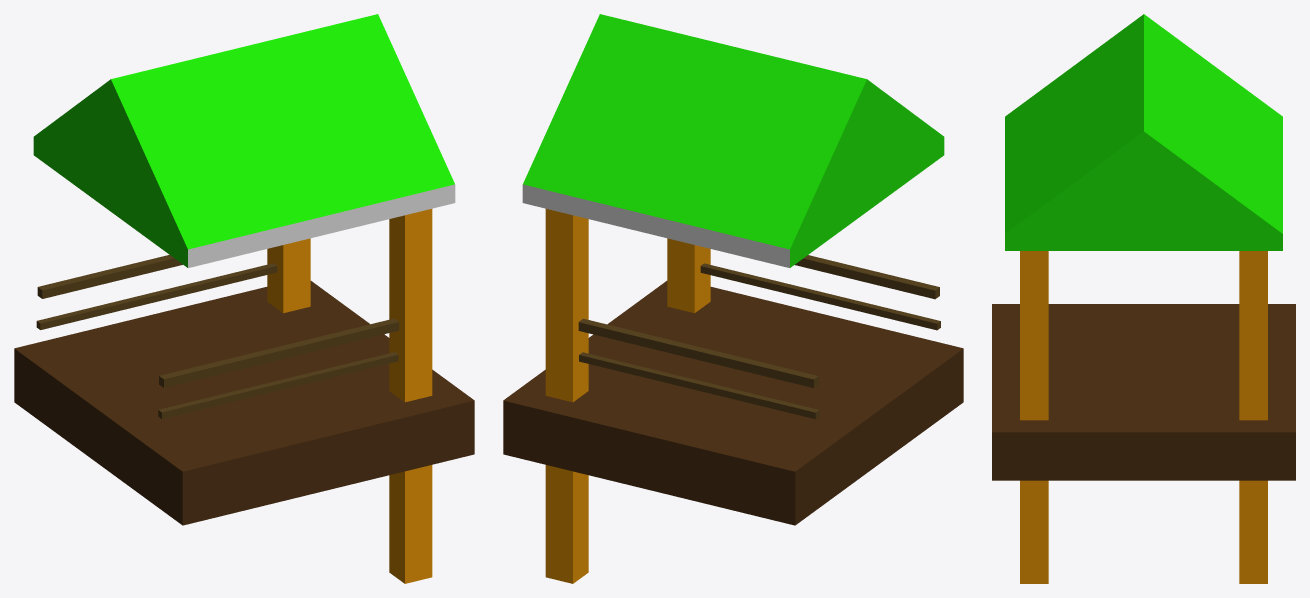
The model's file is most.fbx.
3 renders of one model, left to right at view 1: azimuth 30°, elevation 25°; view 2: azimuth 150°, elevation 25°; view 3: azimuth 270°, elevation 25°, orthographic. The views are drawn at different scales.
Parts seen in each view (by area): view 1: Cube.025; view 2: Cube.025; view 3: Cube.025.
Part boxes in pixels (left/top/right/bottom): Cube.025: left=14, top=14, right=474, bottom=583; Cube.025: left=503, top=14, right=963, bottom=583; Cube.025: left=992, top=14, right=1295, bottom=583.
Size of the model in its own units: 305 by 508 by 305.
